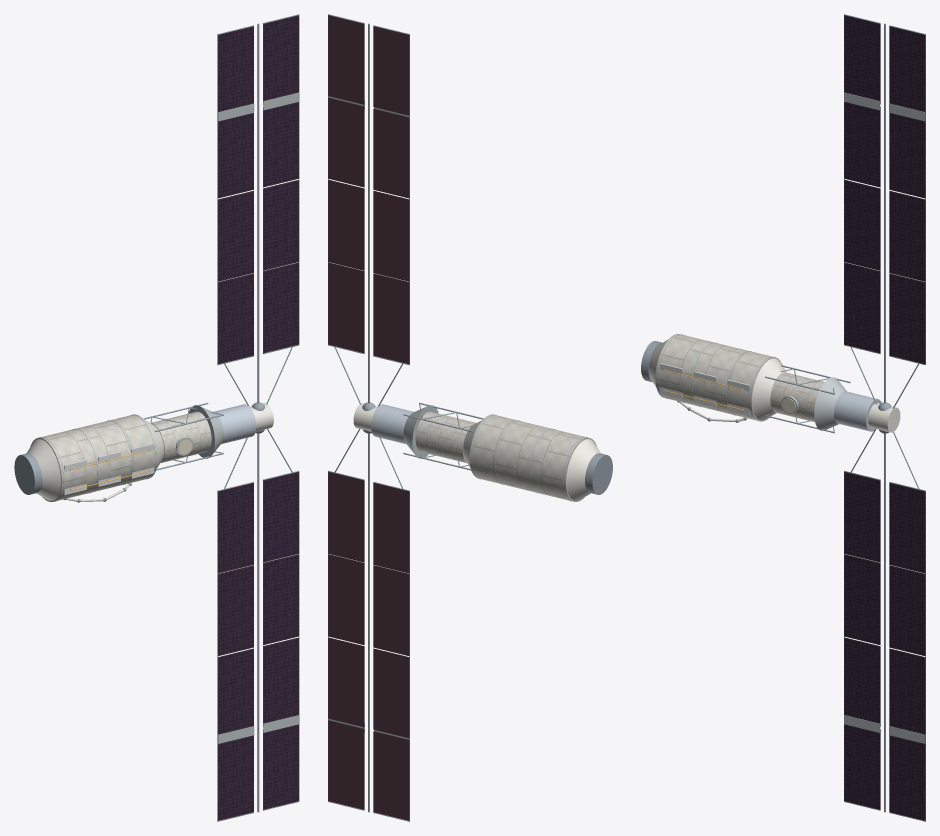
The model's file is wentian.glb.
3 renders of one model, left to right at view 1: azimuth 30°, elevation 25°; view 2: azimuth 150°, elevation 25°; view 3: azimuth 330°, elevation 25°, orthographic.
Parts seen in each view (by area): view 1: Wentian flexible cell blanket (×16), Wentian working cabin, Wentian deployment mast (×2), Wentian crew airlock, Wentian shoulder, Wentian resource cabin, Wentian berthing ring, Wentian resource cabin transition; view 2: Wentian blanket backing (×16), Wentian working cabin, Wentian crew airlock, Wentian deployment mast (×2), Wentian shoulder, Wentian resource cabin, Wentian berthing ring, Wentian resource cabin transition; view 3: Wentian flexible cell blanket (×16), Wentian working cabin, Wentian crew airlock, Wentian deployment mast (×2), Wentian resource cabin, Wentian crew airlock shoulder, Wentian resource cabin transition, Wentian outboard solar drive.
Part boxes in pixels (left/top/right/bottom): Wentian flexible cell blanket (×16): left=218, top=15, right=298, bottom=820; Wentian working cabin: left=30, top=414, right=157, bottom=501; Wentian deployment mast (×2): left=257, top=23, right=259, bottom=812; Wentian crew airlock: left=151, top=411, right=211, bottom=462; Wentian shoulder: left=27, top=439, right=60, bottom=500; Wentian resource cabin: left=213, top=404, right=256, bottom=444; Wentian berthing ring: left=14, top=453, right=42, bottom=494; Wentian resource cabin transition: left=188, top=405, right=223, bottom=458; Wentian blanket backing (×16): left=328, top=15, right=409, bottom=820; Wentian working cabin: left=469, top=414, right=596, bottom=501; Wentian crew airlock: left=415, top=411, right=476, bottom=462; Wentian deployment mast (×2): left=368, top=23, right=369, bottom=812; Wentian shoulder: left=566, top=439, right=600, bottom=500; Wentian resource cabin: left=371, top=404, right=413, bottom=443; Wentian berthing ring: left=585, top=453, right=612, bottom=494; Wentian resource cabin transition: left=403, top=405, right=438, bottom=458; Wentian flexible cell blanket (×16): left=844, top=15, right=925, bottom=820; Wentian working cabin: left=655, top=334, right=782, bottom=421; Wentian crew airlock: left=770, top=372, right=824, bottom=421; Wentian deployment mast (×2): left=884, top=23, right=885, bottom=812; Wentian resource cabin: left=834, top=391, right=881, bottom=431; Wentian crew airlock shoulder: left=752, top=358, right=786, bottom=420; Wentian resource cabin transition: left=814, top=377, right=846, bottom=430; Wentian outboard solar drive: left=868, top=403, right=900, bottom=432.
Bounding box in the file's own units: 20.25 × 55.5 × 4.28.
Materials: 10 (2 with a texture image).
